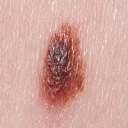Melanoma: (43, 24, 78, 100)
